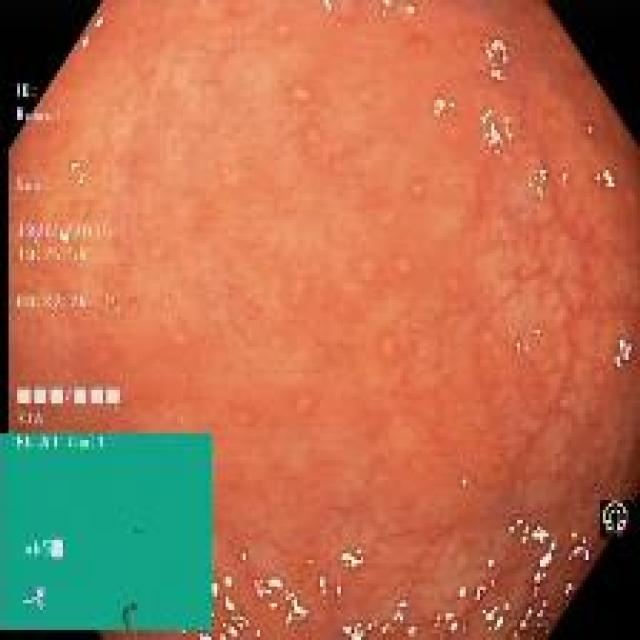ulcerative-colitis-grade-1: (10, 0, 640, 640)
